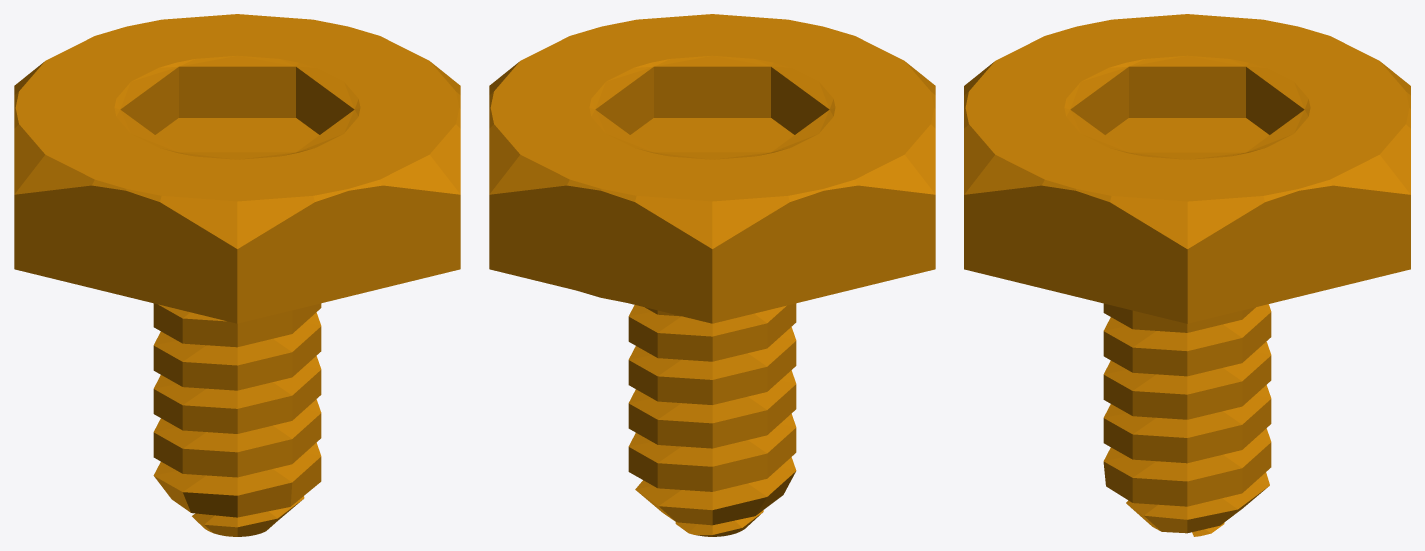
File: Item_Powerup_Fantasy_3.fbx
3 renders of one model, left to right at view 1: azimuth 30°, elevation 25°; view 2: azimuth 150°, elevation 25°; view 3: azimuth 270°, elevation 25°, orthographic.
Parts seen in each view (by area): view 1: Item Powerup Fantasy 3; view 2: Item Powerup Fantasy 3; view 3: Item Powerup Fantasy 3.
Boxes of the visible parts, x1,y1,x2,y2 form: Item Powerup Fantasy 3: (14,14,460,536); Item Powerup Fantasy 3: (489,14,935,536); Item Powerup Fantasy 3: (964,14,1410,536).
Size of the model in its own units: 210 by 186 by 182.
